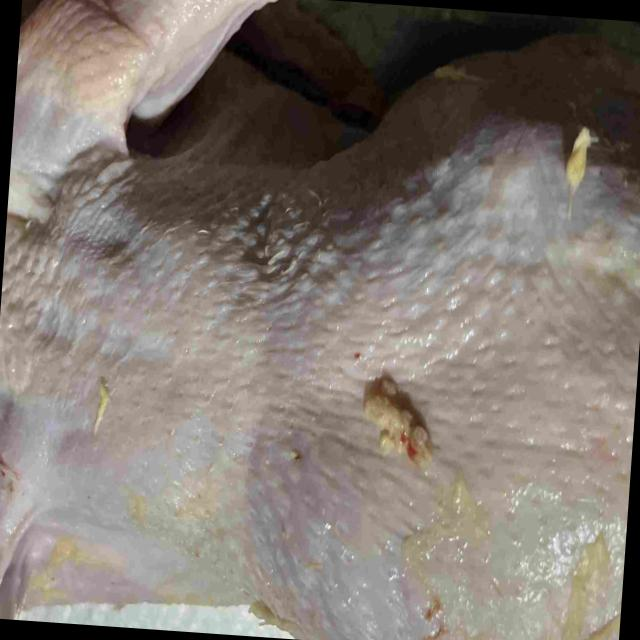back: (58, 149, 640, 640)
leg: (411, 30, 640, 185)
wing: (7, 0, 256, 222)
